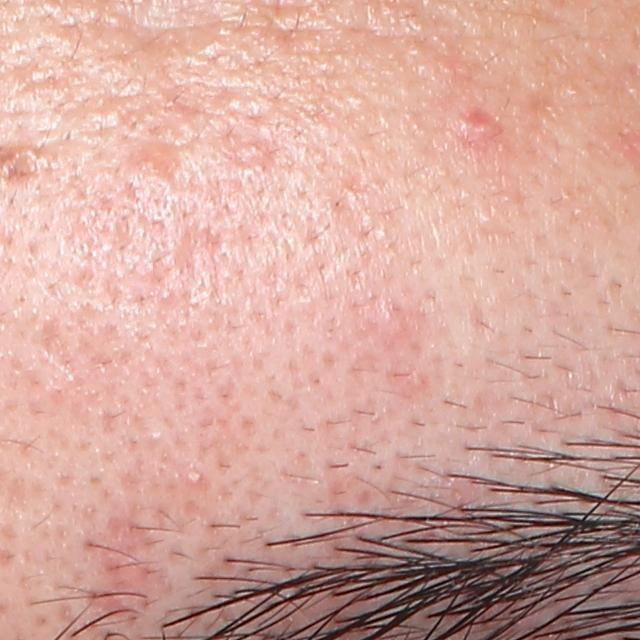atrophic_scar: (39, 320, 74, 382)
papule: (455, 105, 506, 143)
